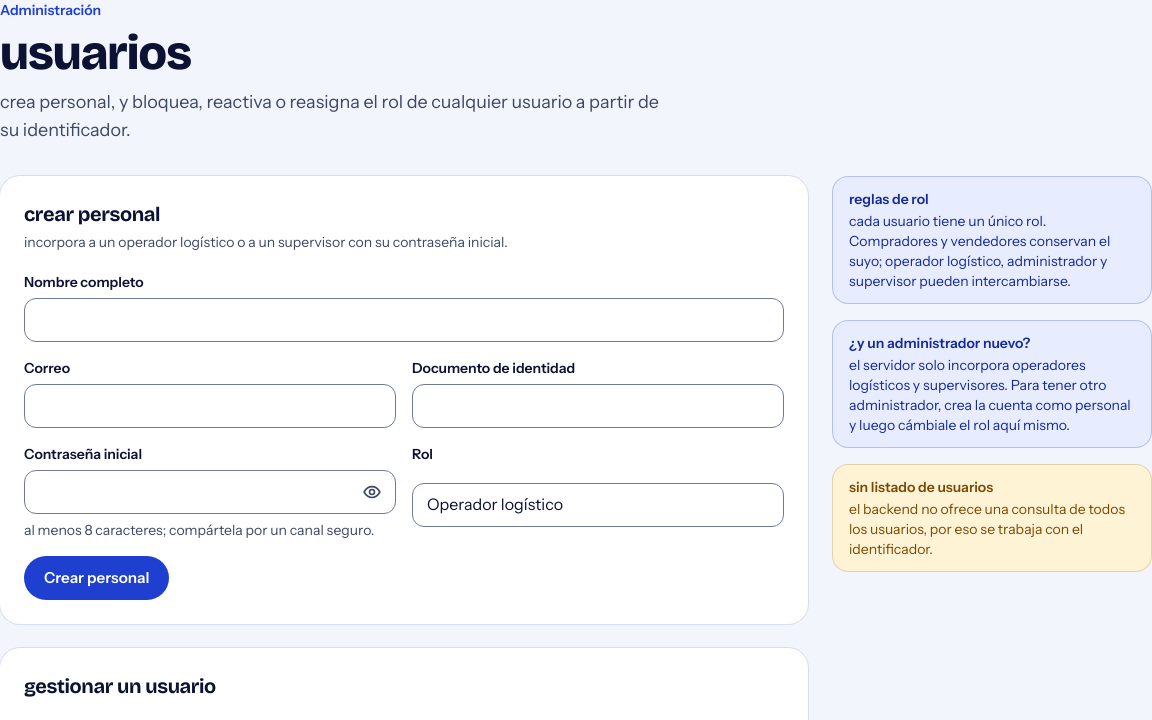
Test case: create staff › checks the fields on the client and sends nothing while they are wrong
Step 1. Type "laura@local" into the field labelled "Correo" → (210, 406), box [24,384,396,428]
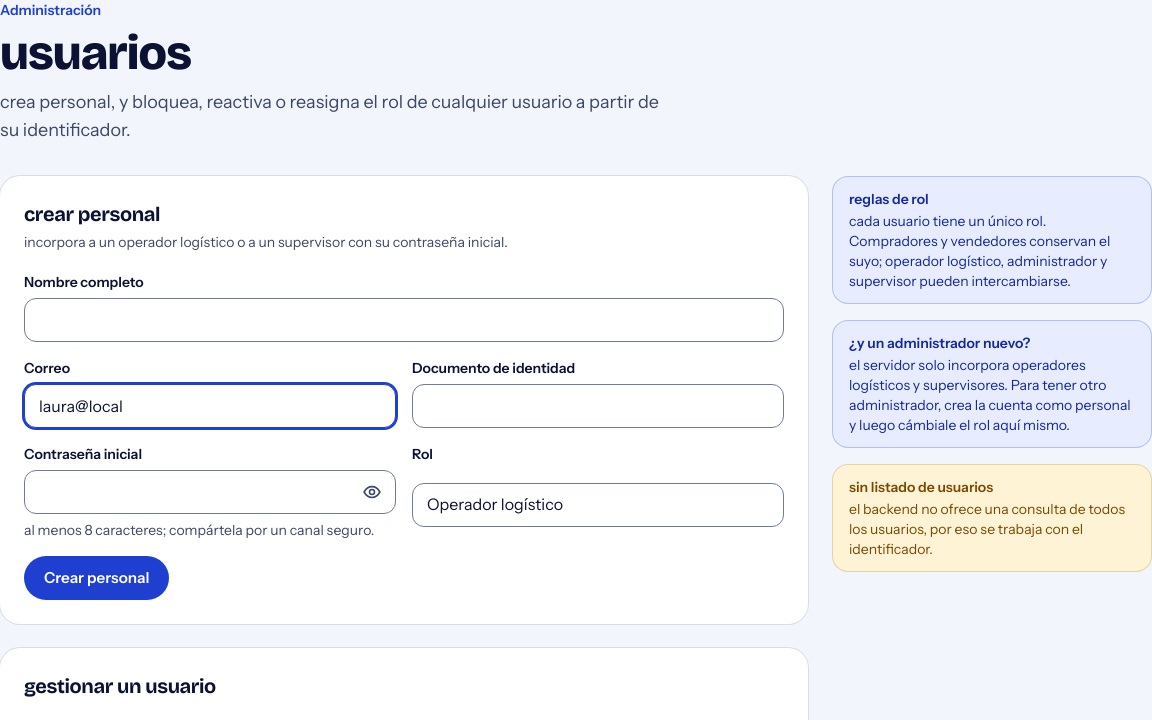
Step 2. Type "abc" into the password field labelled "Contraseña inicial" → (210, 492), box [24,470,396,514]
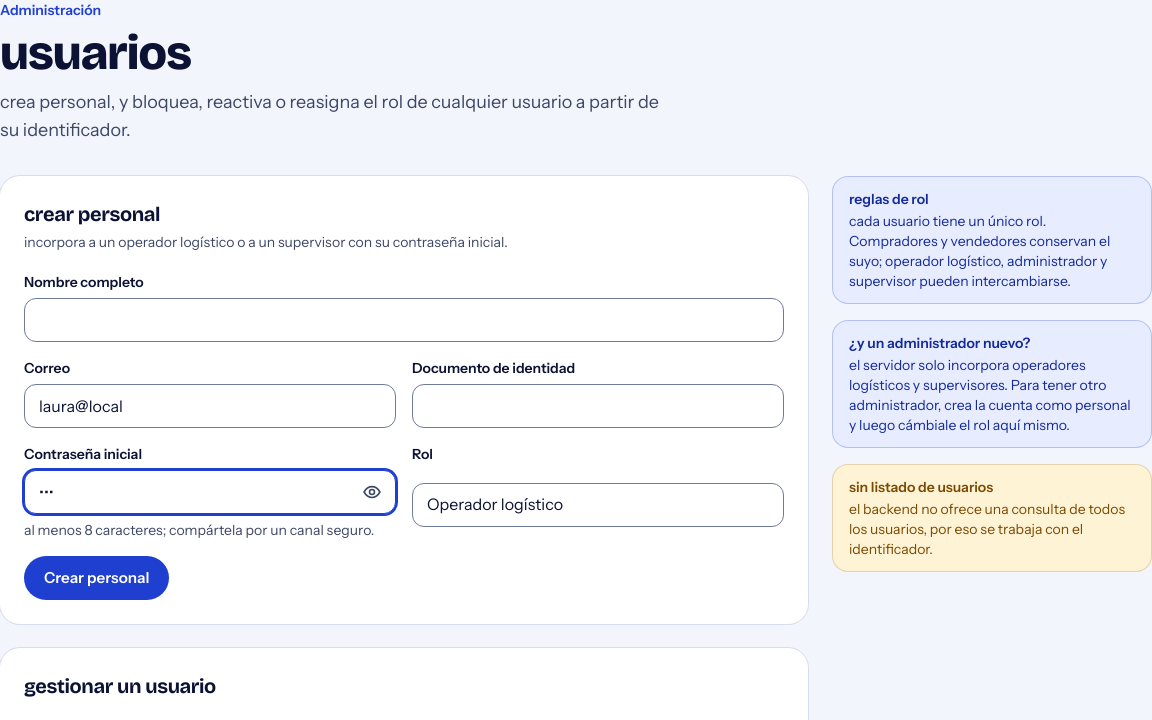
Step 3. Click the button "Crear personal" → (97, 578), box [24,556,169,600]
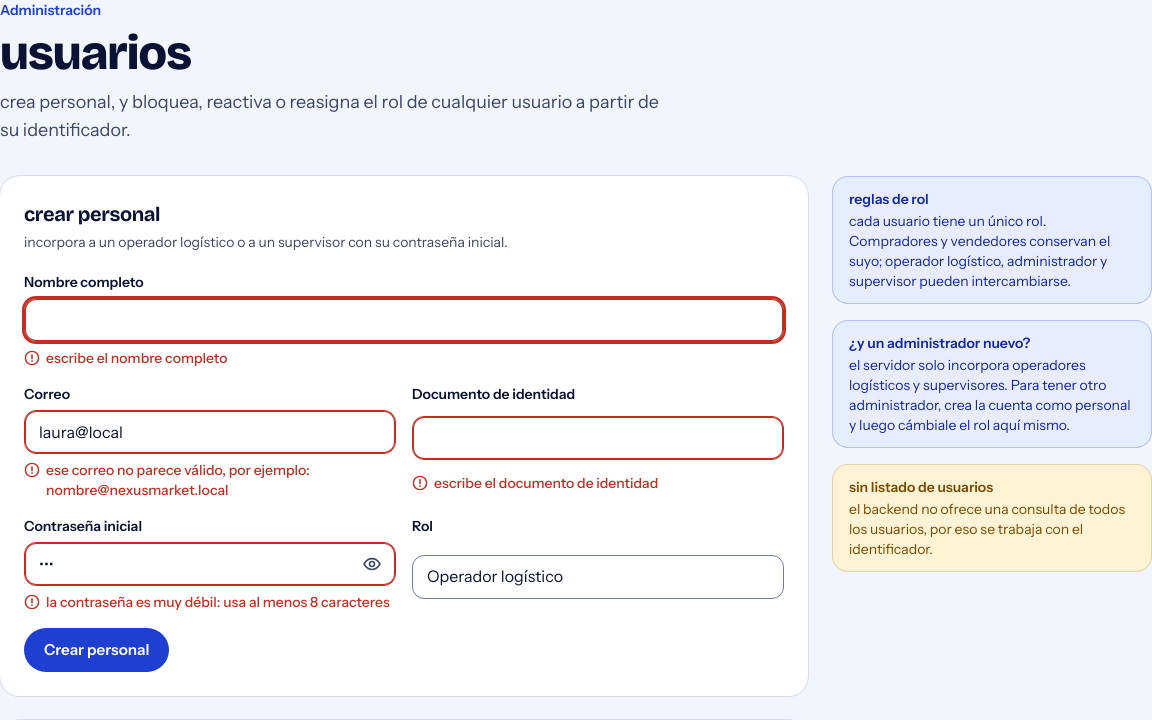
Expected: the text "escribe el nombre completo" is shown, [46,348,227,368]
Expected: the text "ese correo no parece válido" is shown, [46,461,310,499]
Expected: the text "escribe el documento de identidad" is shown, [434,473,658,493]
